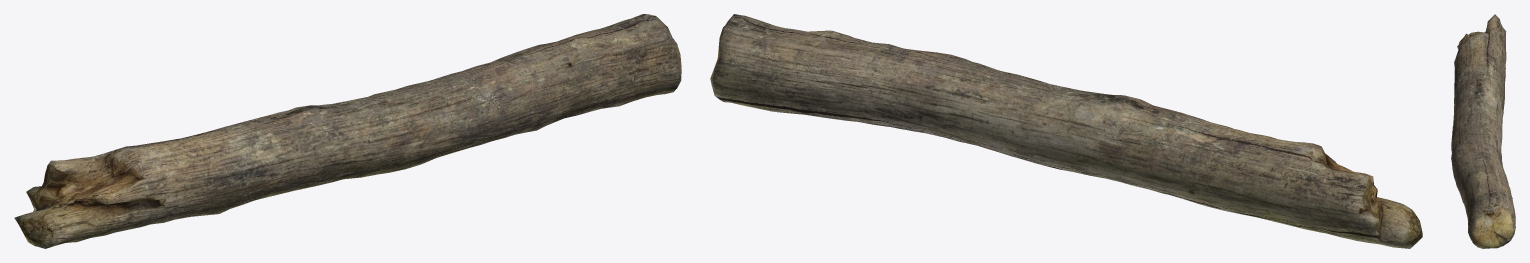
The model's file is stick04.glb.
3 views of the same model, side by side, from view 1: azimuth 30°, elevation 25°; view 2: azimuth 150°, elevation 25°; view 3: azimuth 270°, elevation 25° (orthographic). The views are drawn at different scales.
Visible parts, largest first — view 1: stick_04_stick_04_0; view 2: stick_04_stick_04_0; view 3: stick_04_stick_04_0.
Boxes of the visible parts, <box> form: stick_04_stick_04_0: <box>14,14,681,248</box>; stick_04_stick_04_0: <box>710,14,1422,248</box>; stick_04_stick_04_0: <box>1451,14,1515,248</box>.
Bounding box in the file's own units: 1.3 × 0.1521 × 0.1757.
1 material, 1 textured.
